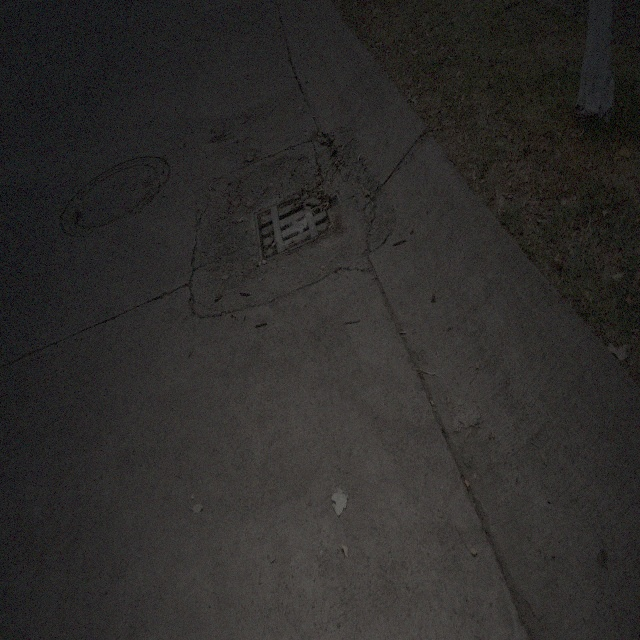pothole: (184, 199, 210, 317)
